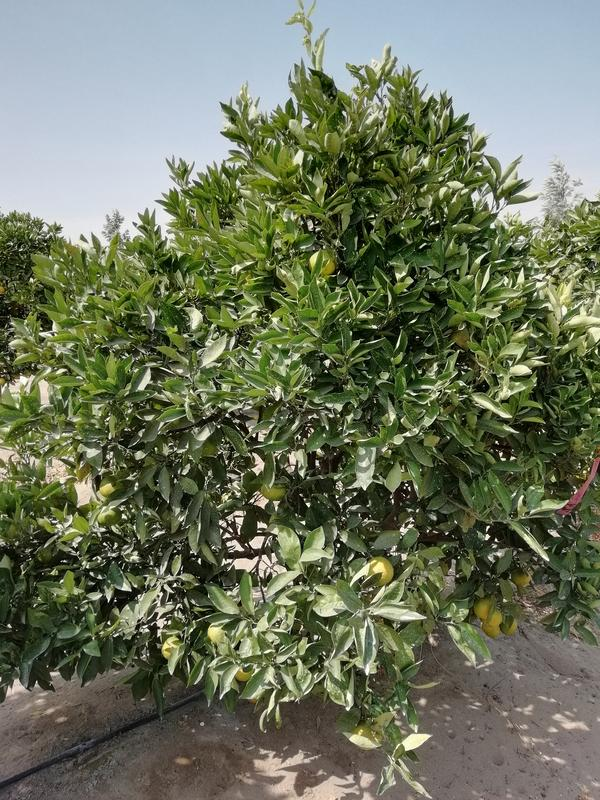mandarina verde: (368, 557, 394, 586), (98, 479, 123, 497), (474, 598, 493, 620), (263, 486, 287, 501), (483, 623, 501, 639)
